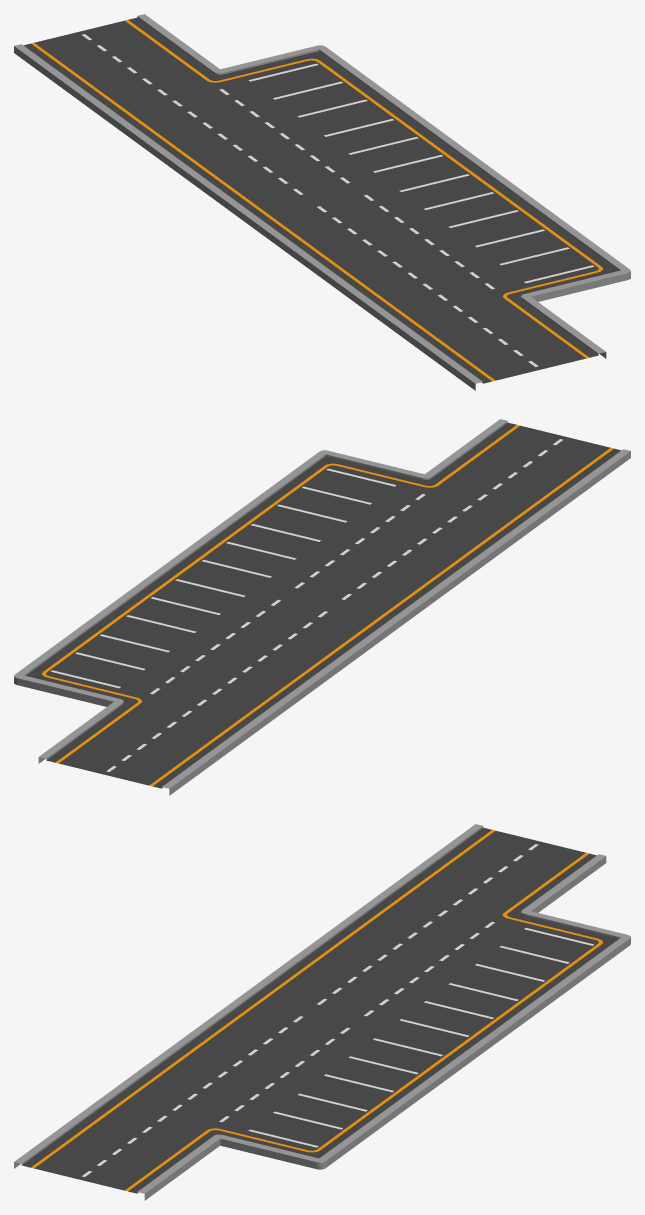
File: ParkingRoad_A_7.glb
The picture shows the model from 3 angles, top to bottom: view 1: azimuth 30°, elevation 25°; view 2: azimuth 150°, elevation 25°; view 3: azimuth 330°, elevation 25°; orthographic projection.
Parts seen in each view (by area): view 1: ParkingRoad_A_7; view 2: ParkingRoad_A_7; view 3: ParkingRoad_A_7.
Part boxes in pixels (x1=…): ParkingRoad_A_7: x1=14, y1=14, x2=630, y2=390; ParkingRoad_A_7: x1=14, y1=419, x2=630, y2=795; ParkingRoad_A_7: x1=14, y1=824, x2=630, y2=1200.
Size of the model in its own units: 14.26 by 0.4148 by 48.93.
Materials: 1 (1 with a texture image).
